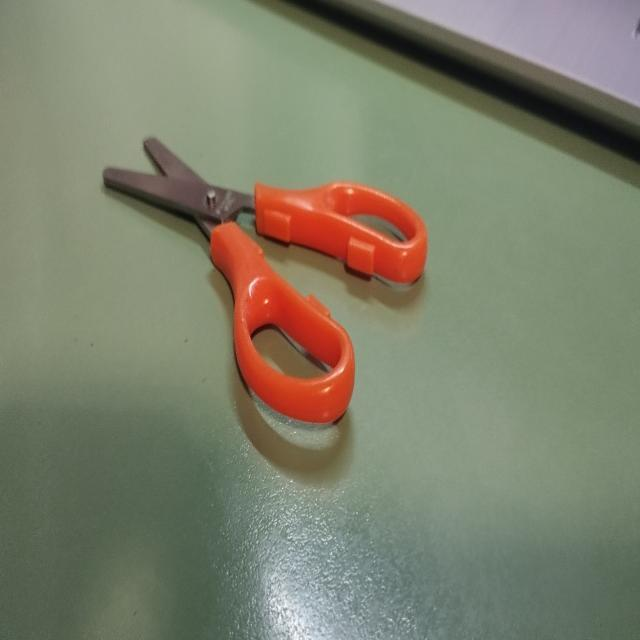tesoura: (98, 124, 433, 434)
